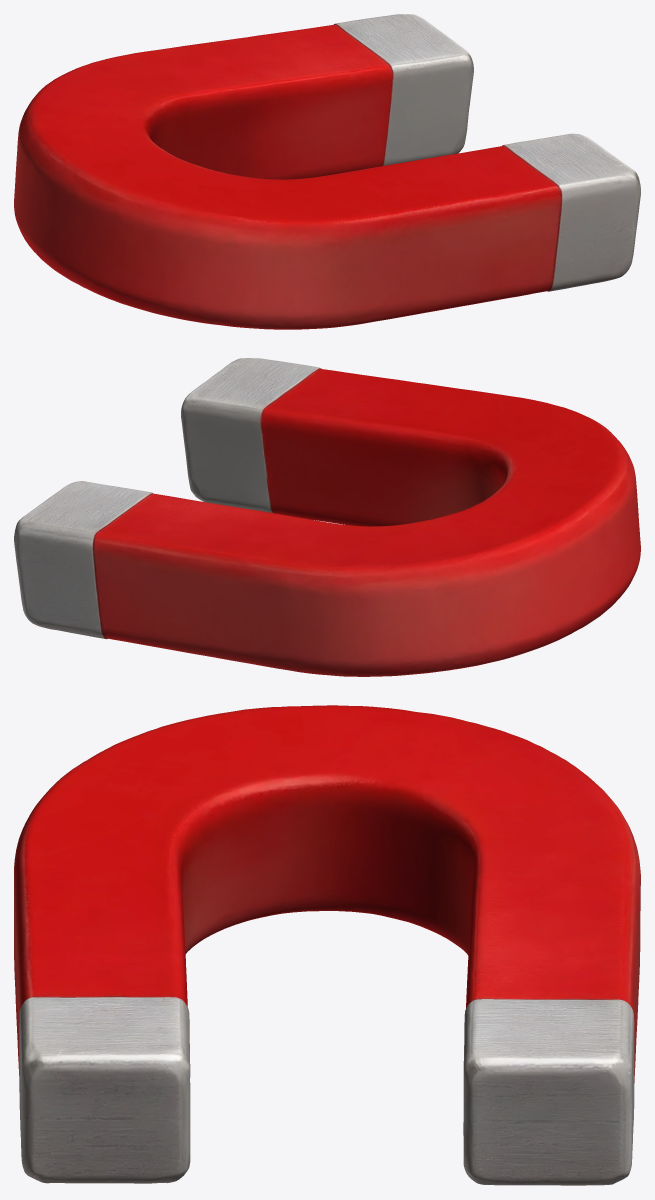
Rendered from horseshoe-magnet.glb.
The picture shows the model from 3 angles, top to bottom: view 1: azimuth 30°, elevation 25°; view 2: azimuth 150°, elevation 25°; view 3: azimuth 270°, elevation 25°; orthographic projection. The views are drawn at different scales.
Parts seen in each view (by area): view 1: horseshoe-magnet; view 2: horseshoe-magnet; view 3: horseshoe-magnet.
Part boxes in pixels (box(x1,y1,x2,y2)): horseshoe-magnet: box(14, 14, 640, 329); horseshoe-magnet: box(14, 358, 640, 676); horseshoe-magnet: box(14, 705, 640, 1185).
Bounding box in the file's own units: 0.1 × 0.0291 × 0.0853.
Materials: 1 (1 with a texture image).
